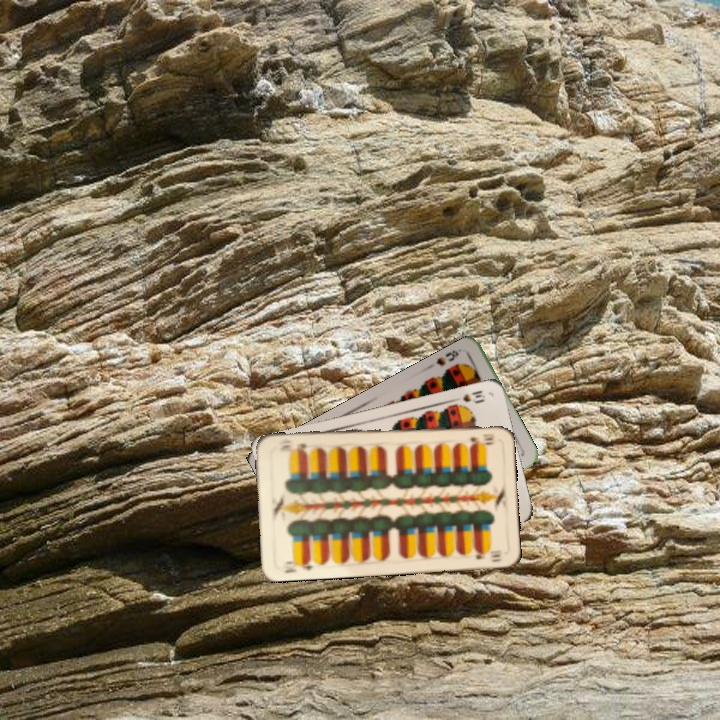E10: (280, 555, 316, 576), (466, 429, 497, 445)
S10: (448, 386, 488, 405)
S8: (432, 345, 464, 368)
